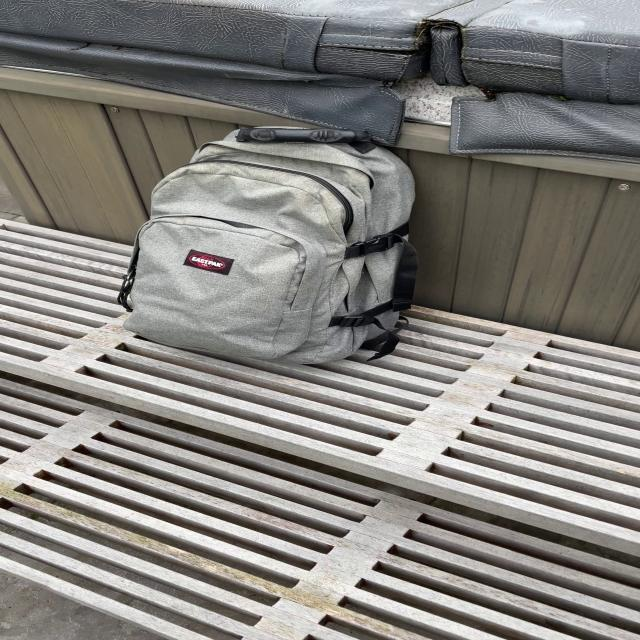backpack: (110, 116, 434, 373)
